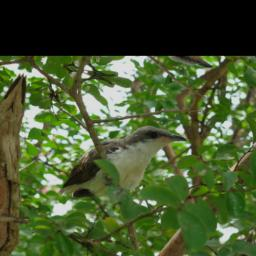Cuckoo: (55, 107, 188, 225)
